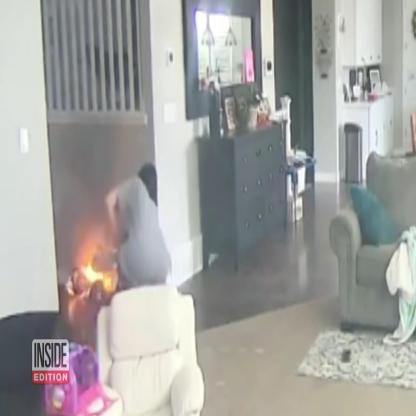fire: (79, 262, 114, 290)
